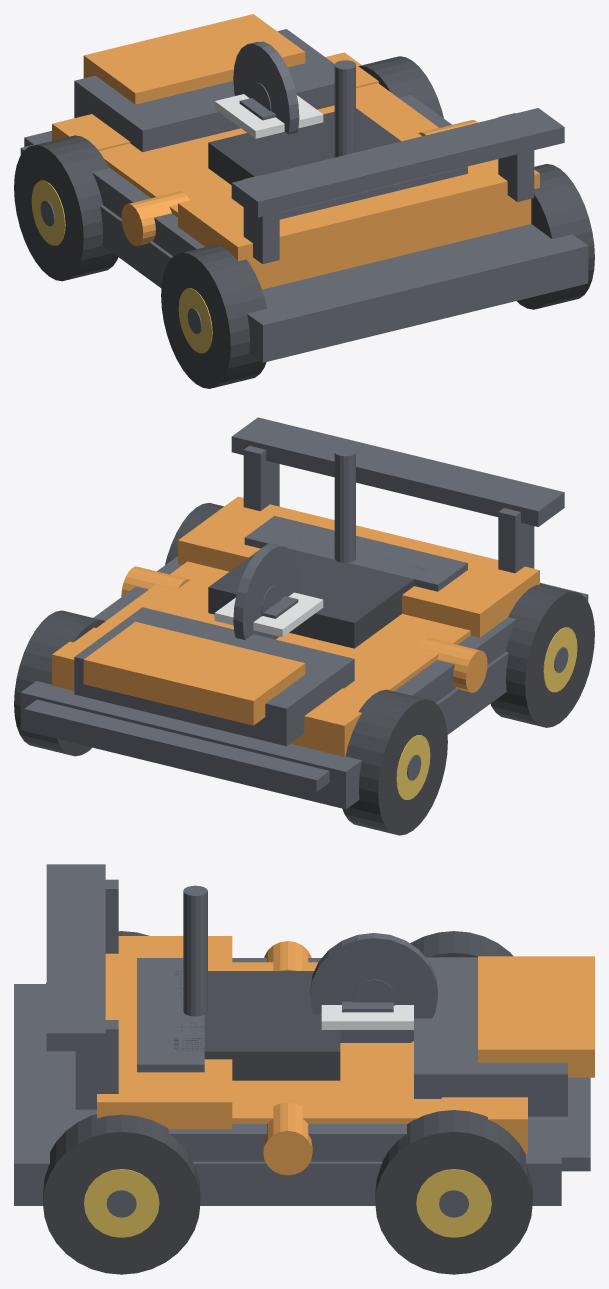
Rendered from heavy.glb.
3 renders of one model, top to bottom at view 1: azimuth 30°, elevation 25°; view 2: azimuth 150°, elevation 25°; view 3: azimuth 270°, elevation 25°, orthographic. The views are drawn at different scales.
Visible parts, largest first — view 1: part_0, part_31, part_11, part_3, part_19, part_16, part_2, part_1, part_4, part_25, part_8, part_9 (+11 smaller); view 2: part_3, part_0, part_11, part_31, part_2, part_16, part_1, part_19, part_4, part_28, part_5, part_32 (+13 smaller); view 3: part_0, part_22, part_25, part_4, part_3, part_31, part_2, part_11, part_1, part_8, part_5, part_10 (+15 smaller).
Part boxes in pixels (bbox=[...]): part_0: bbox=[20, 140, 588, 362]; part_31: bbox=[178, 159, 539, 289]; part_11: bbox=[231, 108, 564, 217]; part_3: bbox=[83, 14, 305, 104]; part_19: bbox=[161, 245, 267, 388]; part_16: bbox=[14, 135, 118, 281]; part_2: bbox=[74, 29, 334, 152]; part_1: bbox=[99, 83, 438, 217]; part_4: bbox=[208, 108, 400, 184]; part_25: bbox=[516, 164, 594, 309]; part_8: bbox=[233, 41, 299, 134]; part_9: bbox=[92, 167, 204, 256]; part_3: bbox=[83, 621, 305, 725]; part_0: bbox=[20, 582, 588, 809]; part_11: bbox=[231, 417, 564, 526]; part_31: bbox=[178, 496, 539, 637]; part_2: bbox=[74, 607, 354, 746]; part_16: bbox=[342, 689, 447, 835]; part_1: bbox=[97, 561, 470, 695]; part_19: bbox=[490, 583, 594, 727]; part_4: bbox=[208, 536, 427, 648]; part_28: bbox=[24, 699, 329, 791]; part_5: bbox=[244, 516, 467, 591]; part_32: bbox=[52, 627, 371, 756]; part_0: bbox=[14, 984, 561, 1205]; part_22: bbox=[375, 1110, 532, 1274]; part_25: bbox=[43, 1114, 200, 1274]; part_4: bbox=[174, 971, 340, 1080]; part_3: bbox=[478, 956, 594, 1077]; part_31: bbox=[97, 936, 232, 1129]; part_2: bbox=[414, 957, 567, 1116]; part_11: bbox=[46, 864, 105, 1051]; part_1: bbox=[232, 962, 441, 1123]; part_8: bbox=[310, 933, 437, 1042]; part_5: bbox=[137, 958, 204, 1072]; part_10: bbox=[168, 1124, 406, 1161].
Size of the model in its own units: 3.89 by 2.54 by 4.72.
